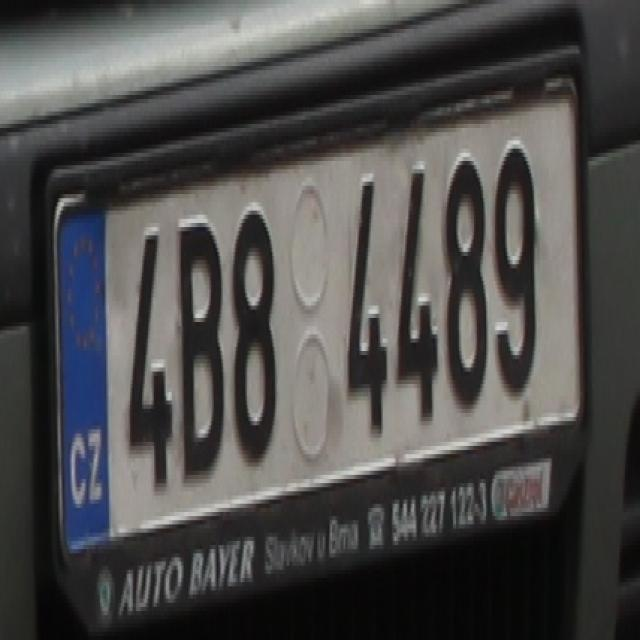4: (390, 157, 441, 425), (124, 223, 175, 487), (342, 173, 389, 438)
8: (442, 148, 488, 408)
9: (491, 128, 542, 392)
B: (176, 219, 229, 483)
